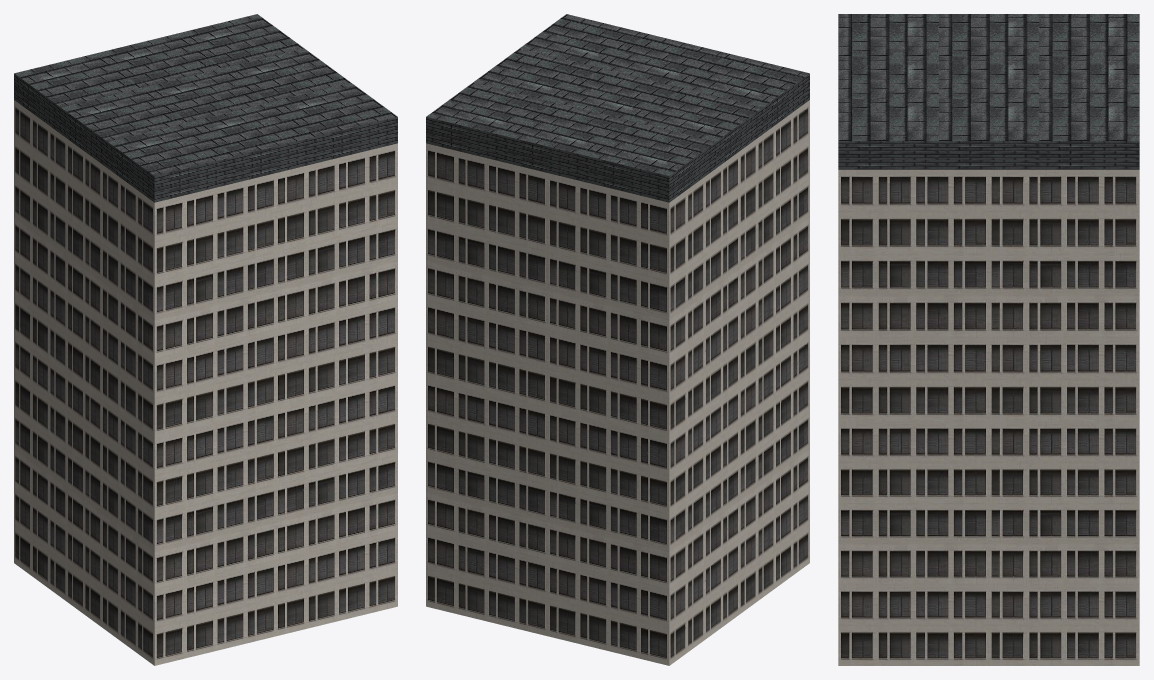
The model's file is 12_Storey_Building.FBX.
3 renders of one model, left to right at view 1: azimuth 30°, elevation 25°; view 2: azimuth 150°, elevation 25°; view 3: azimuth 270°, elevation 25°, orthographic. The views are drawn at different scales.
Parts seen in each view (by area): view 1: Box002; view 2: Box002; view 3: Box002.
Part boxes in pixels (<box>): Box002: <box>14,14,397,665</box>; Box002: <box>426,14,809,665</box>; Box002: <box>838,14,1139,665</box>.
Size of the model in its own units: 35 by 67.33 by 35.
2 materials, 2 textured.
